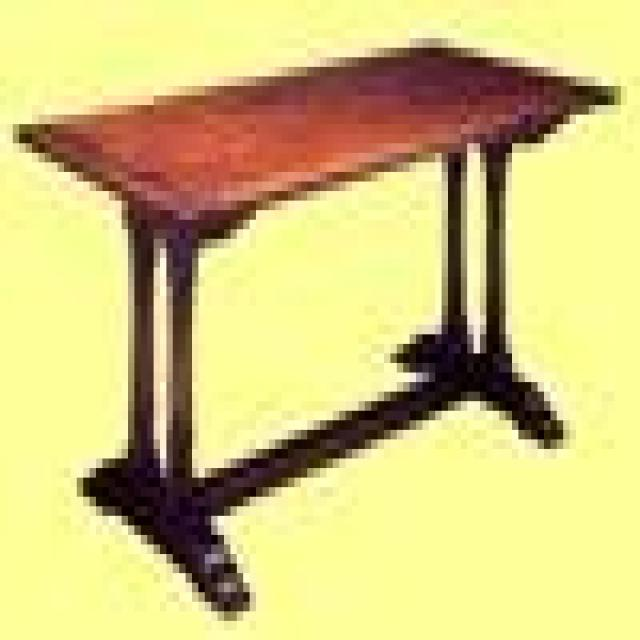table: (15, 39, 618, 622)
